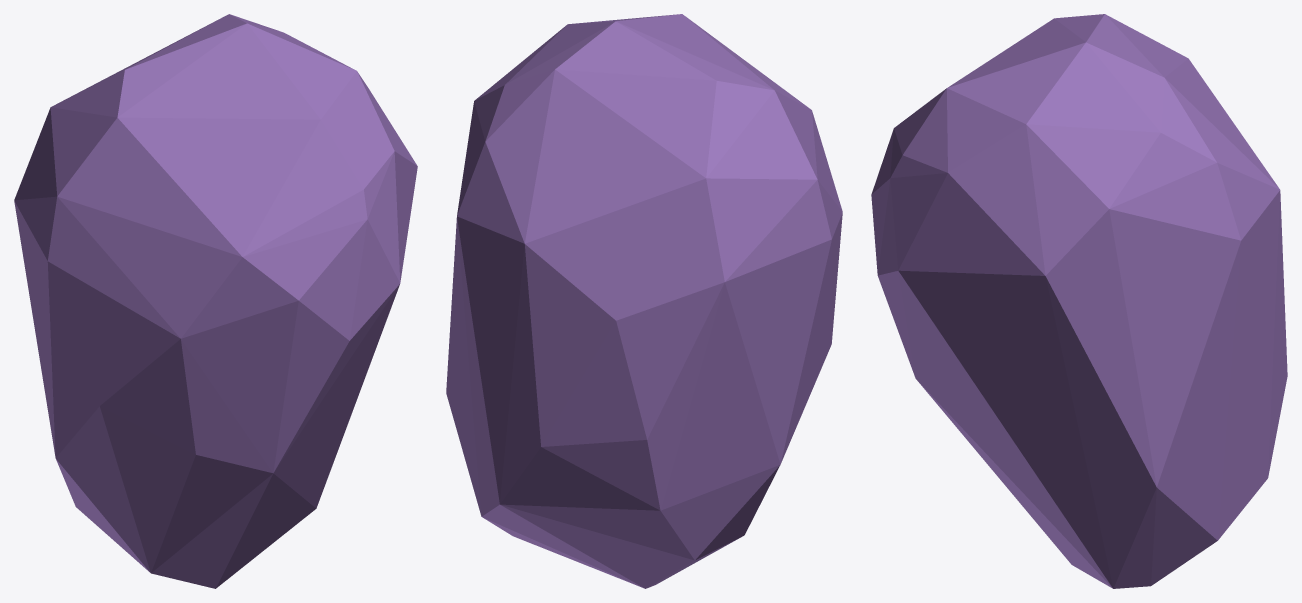
Rendered from food_produce_potato_f01.glb.
3 views of the same model, side by side, from view 1: azimuth 30°, elevation 25°; view 2: azimuth 150°, elevation 25°; view 3: azimuth 270°, elevation 25° (orthographic).
Visible parts, largest first — view 1: geometry_0; view 2: geometry_0; view 3: geometry_0.
Boxes of the visible parts, box(x1,y1,x2,y2) form: geometry_0: box(14, 14, 417, 588); geometry_0: box(446, 14, 842, 588); geometry_0: box(871, 14, 1287, 588).
Bounding box in the file's own units: 0.324 × 0.4737 × 0.3303.
